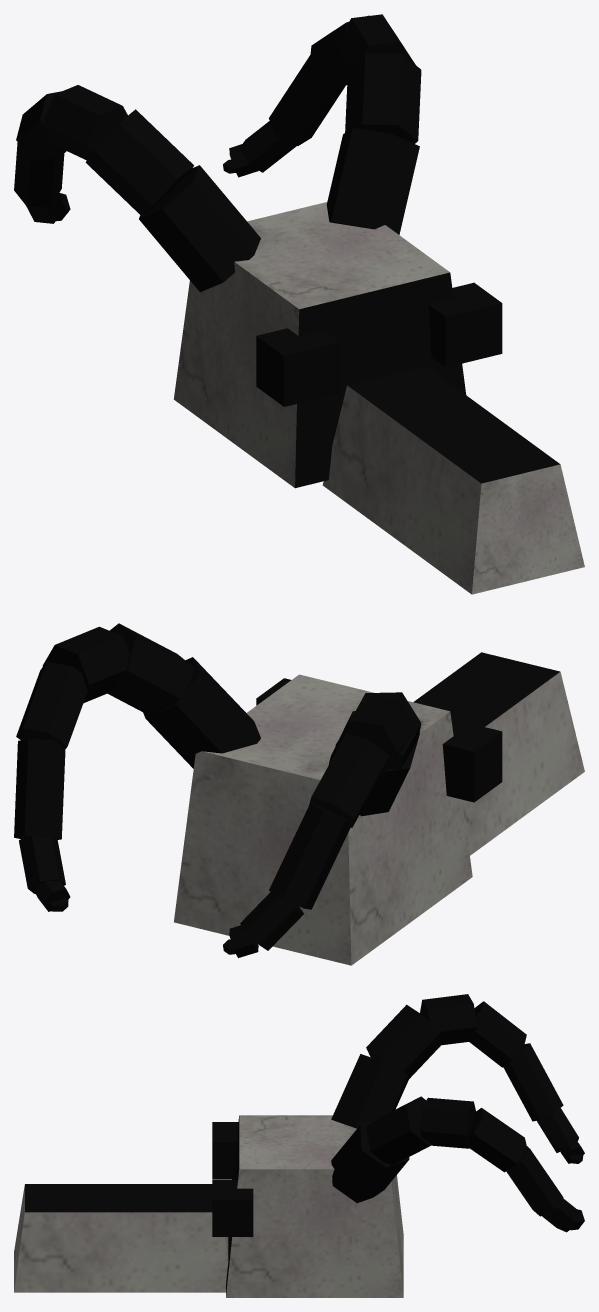
The model's file is goat_skull.fbx.
3 views of the same model, one above another, from view 1: azimuth 30°, elevation 25°; view 2: azimuth 150°, elevation 25°; view 3: azimuth 270°, elevation 25° (orthographic). The views are drawn at different scales.
Visible parts, largest first — view 1: goat_skull; view 2: goat_skull; view 3: goat_skull.
Part boxes in pixels (x1,y1,x2,y2): goat_skull: [14, 14, 584, 594]; goat_skull: [14, 623, 584, 965]; goat_skull: [14, 994, 584, 1297].
Size of the model in its own units: 0.22 by 0.1773 by 0.4177.
